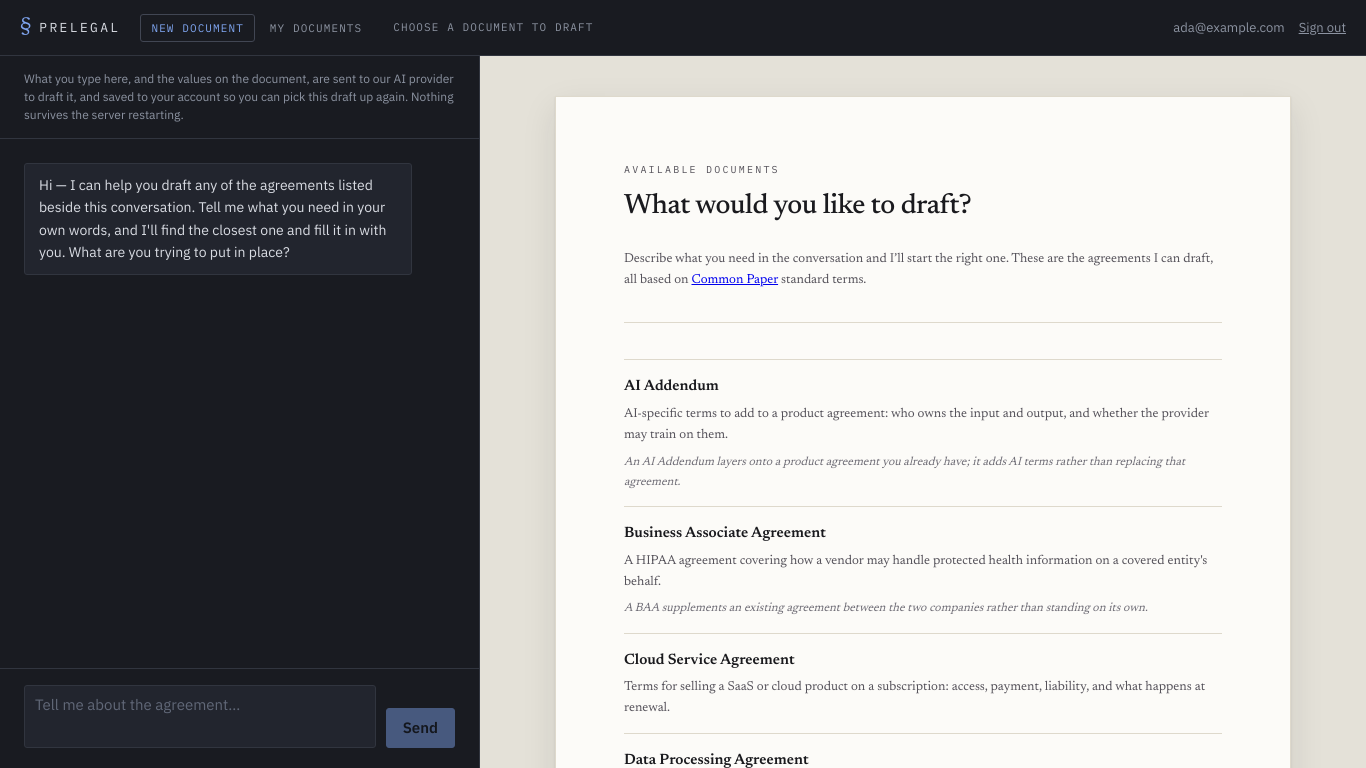
Test: DocumentWorkspace › choosing a document › puts that document on the desk
Type "I need an NDA." into the text box named "Your message" at (200, 716), box [24,685,376,748]
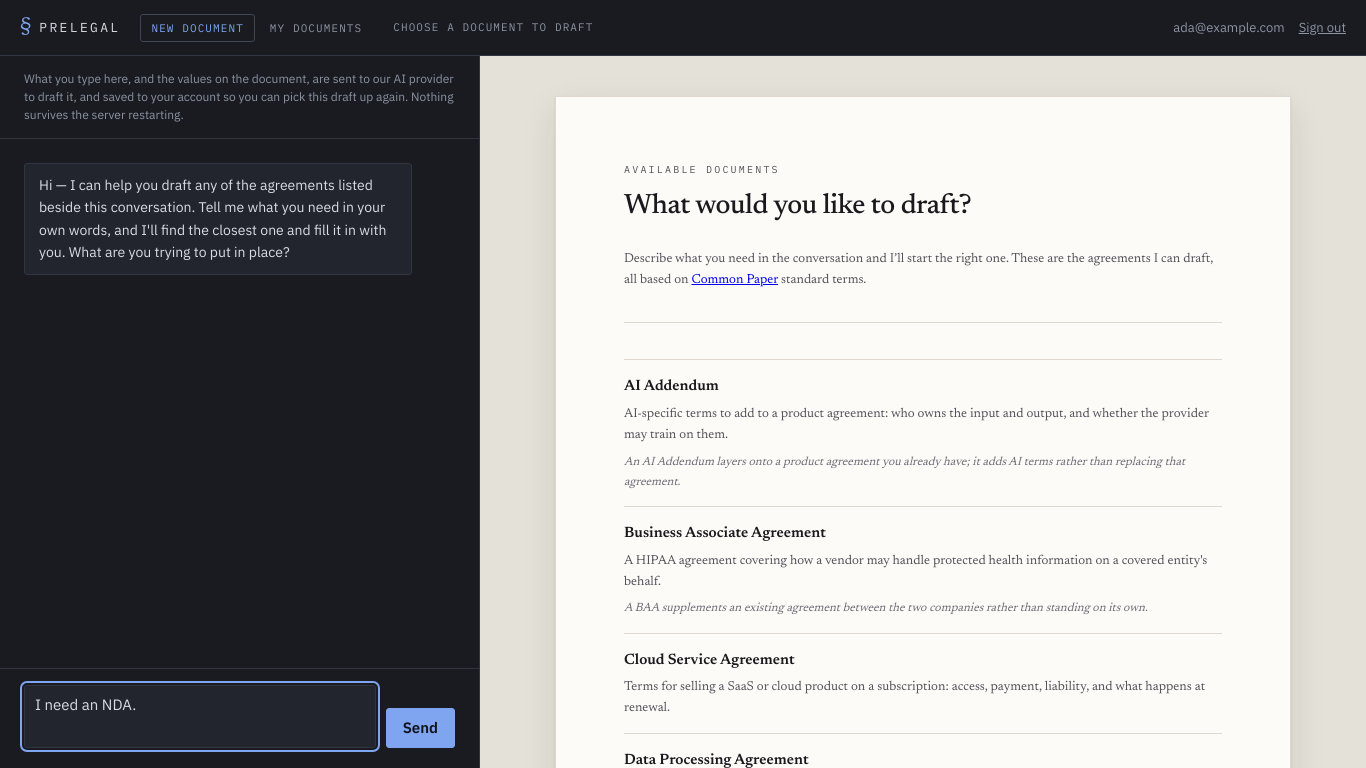
Click the button "Send" at (420, 728), box [386,708,455,748]
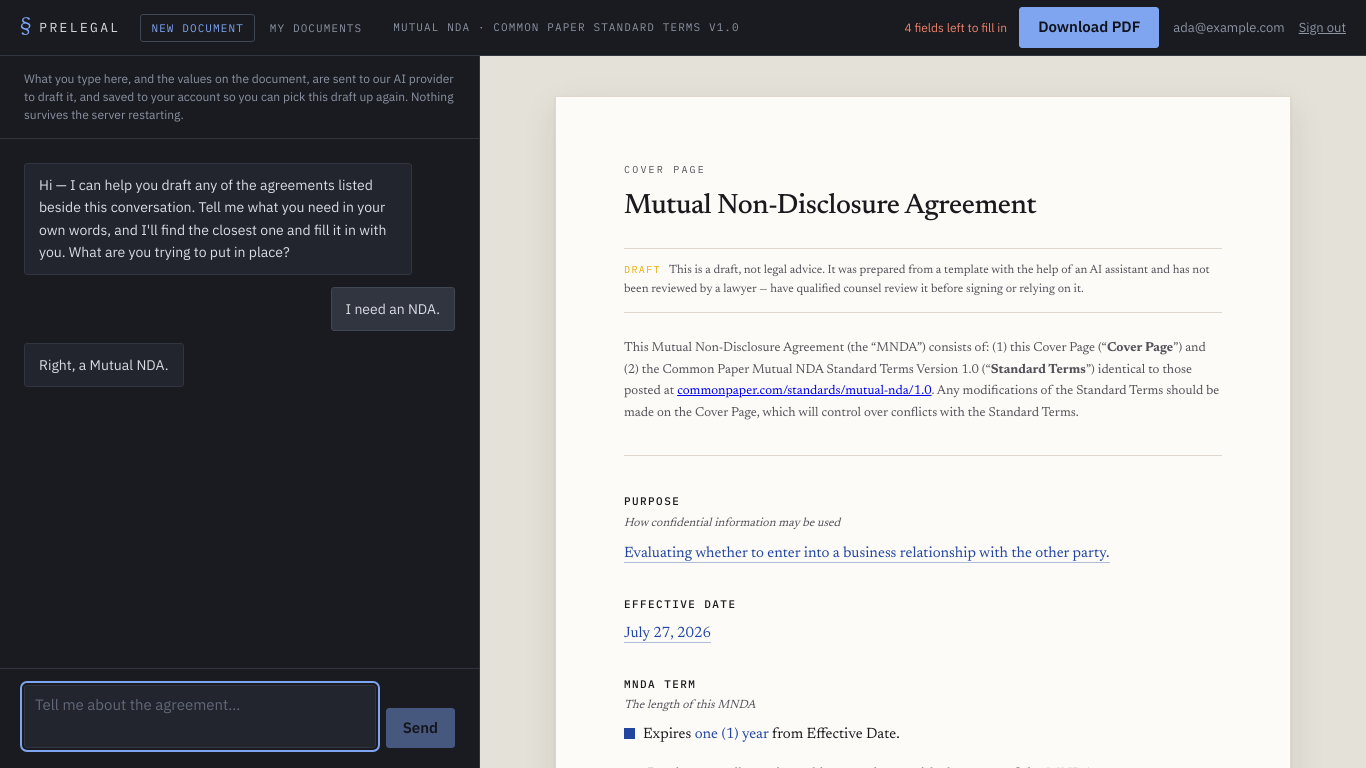
Now the text "Right, a Mutual NDA." is shown, box [24,343,184,387]
Now the heading "Mutual Non-Disclosure Agreement" is shown, box [624,192,1036,220]
